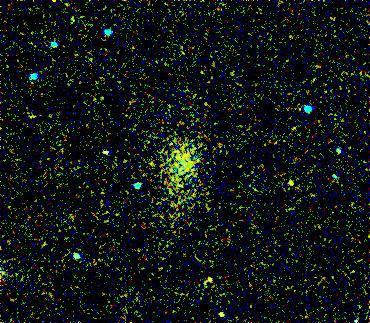star: (275, 169, 305, 199)
